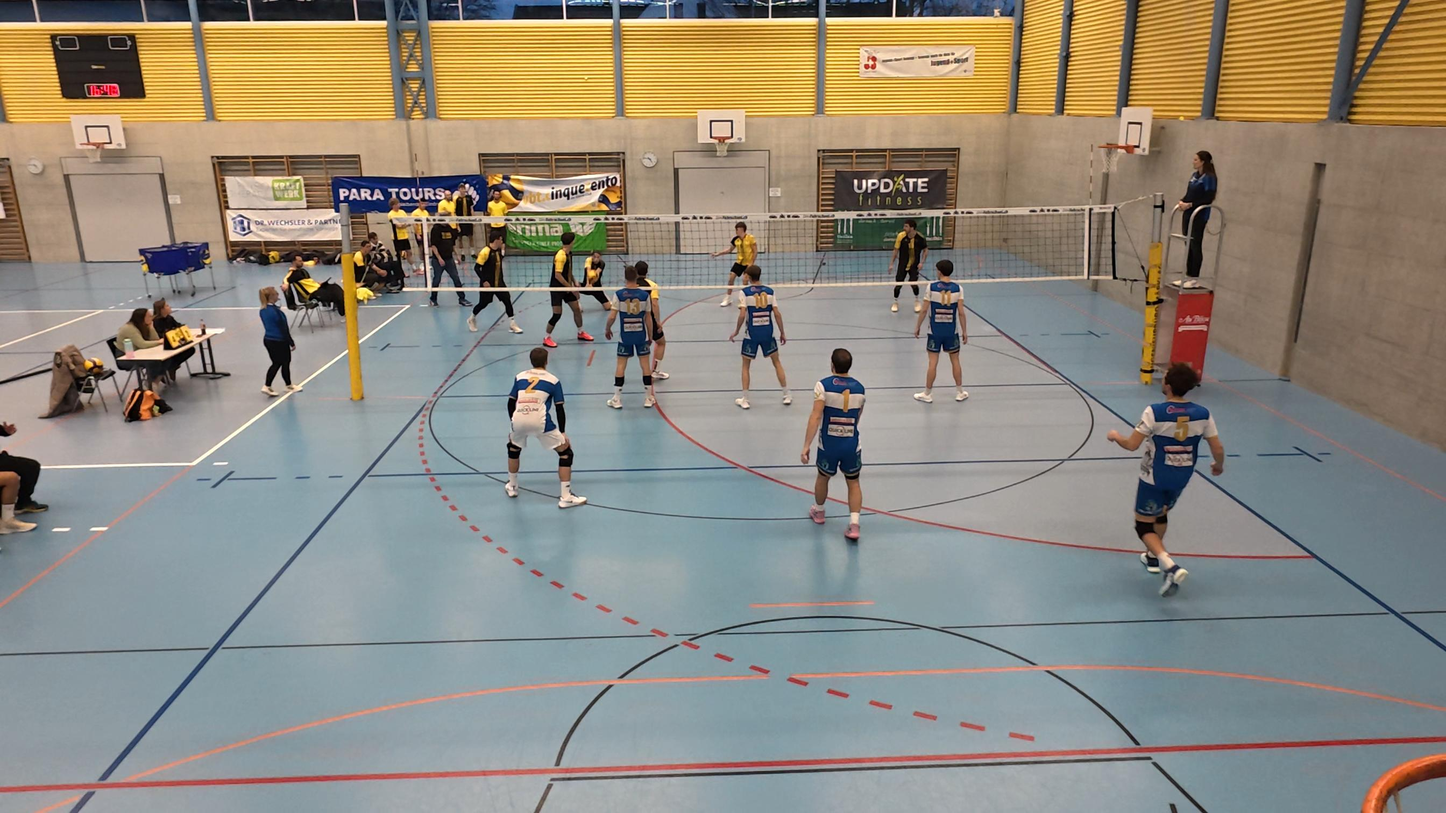ricezione: (571, 247, 612, 314)
